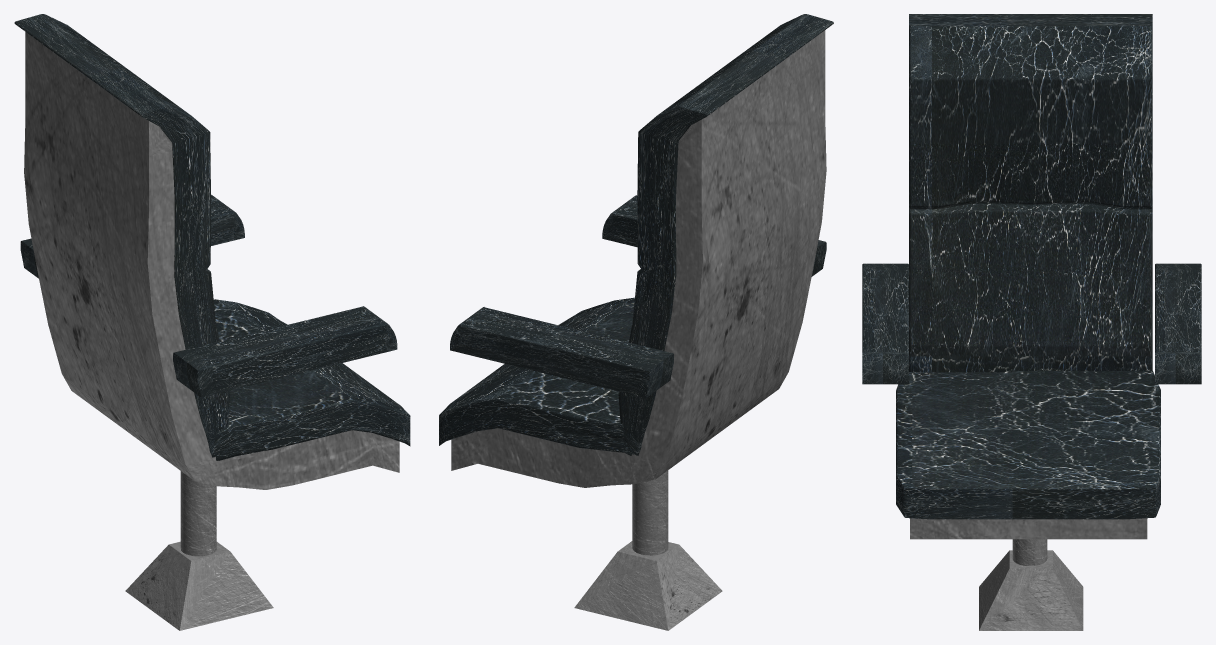
Rendered from Principal_Chair.fbx.
3 views of the same model, side by side, from view 1: azimuth 30°, elevation 25°; view 2: azimuth 150°, elevation 25°; view 3: azimuth 270°, elevation 25° (orthographic). The views are drawn at different scales.
Visible parts, largest first — view 1: pCube3, pCube4, pCube5, pCube7, pCube2, pCylinder1, pCube6; view 2: pCube3, pCube4, pCube5, pCube6, pCube2, pCylinder1, pCube7; view 3: pCube4, pCube5, pCube2, pCube7, pCube6, pCube3, pCylinder1.
Boxes of the visible parts, <box> form: pCube3: <box>24,32,399,489</box>; pCube4: <box>14,14,229,455</box>; pCube5: <box>212,299,410,460</box>; pCube7: <box>173,306,397,397</box>; pCube2: <box>125,541,273,630</box>; pCylinder1: <box>180,471,216,556</box>; pCube6: <box>20,194,244,278</box>; pCube3: <box>451,30,826,487</box>; pCube4: <box>618,14,833,455</box>; pCube5: <box>439,297,638,455</box>; pCube6: <box>450,307,673,397</box>; pCube2: <box>574,541,722,630</box>; pCylinder1: <box>632,470,668,555</box>; pCube7: <box>602,195,826,276</box>; pCube4: <box>909,14,1152,372</box>; pCube5: <box>896,370,1160,519</box>; pCube2: <box>979,550,1083,630</box>; pCube7: <box>862,263,908,384</box>; pCube6: <box>1155,263,1201,384</box>; pCube3: <box>910,518,1147,539</box>; pCylinder1: <box>1012,539,1047,565</box>.
Bounding box in the file's own units: 0.7552 × 1.5 × 0.8581.
2 materials, 2 textured.
